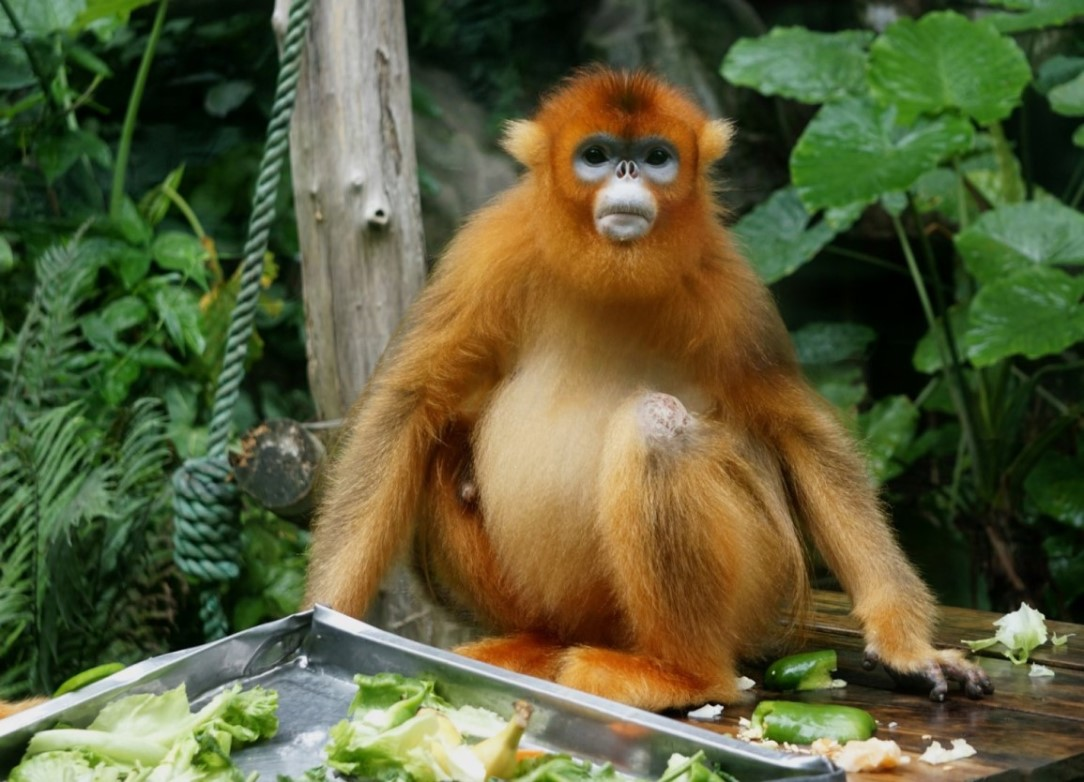GoldenSnub-Nosed: (389, 71, 917, 696)
